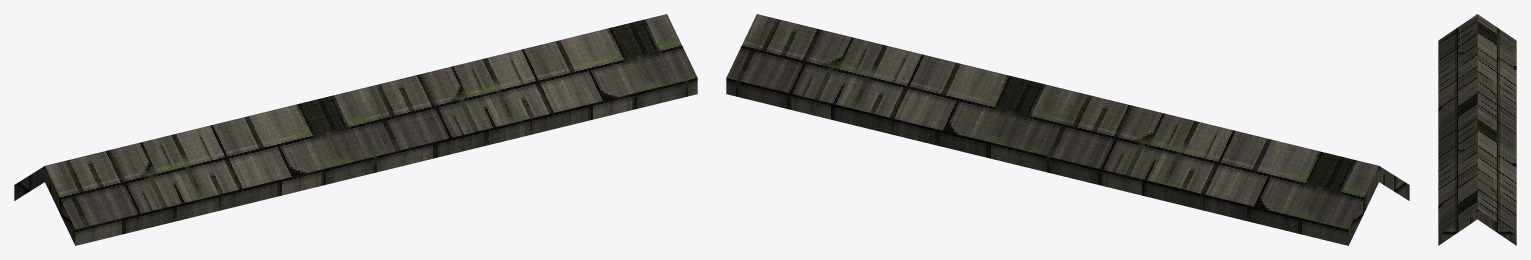
The model's file is house_roof_ridge.glb.
3 views of the same model, side by side, from view 1: azimuth 30°, elevation 25°; view 2: azimuth 150°, elevation 25°; view 3: azimuth 270°, elevation 25° (orthographic). The views are drawn at different scales.
Visible parts, largest first — view 1: house_roof_ridge; view 2: house_roof_ridge; view 3: house_roof_ridge.
Part boxes in pixels (x1=…): house_roof_ridge: x1=14, y1=14, x2=697, y2=245; house_roof_ridge: x1=726, y1=14, x2=1409, y2=245; house_roof_ridge: x1=1438, y1=14, x2=1516, y2=245.
Bounding box in the file's own units: 2 × 0.1775 × 0.34.
1 material, 1 textured.
